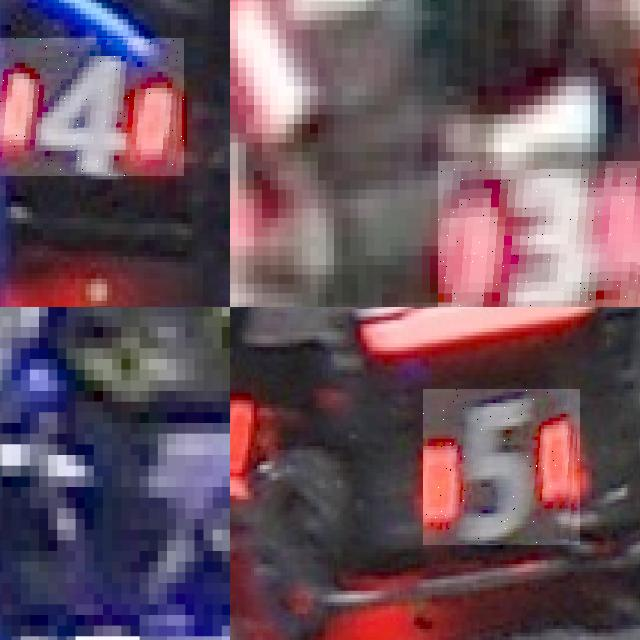R3: (438, 161, 640, 307)
R4: (0, 38, 184, 176)
R5: (423, 389, 580, 545), (230, 347, 253, 492)
